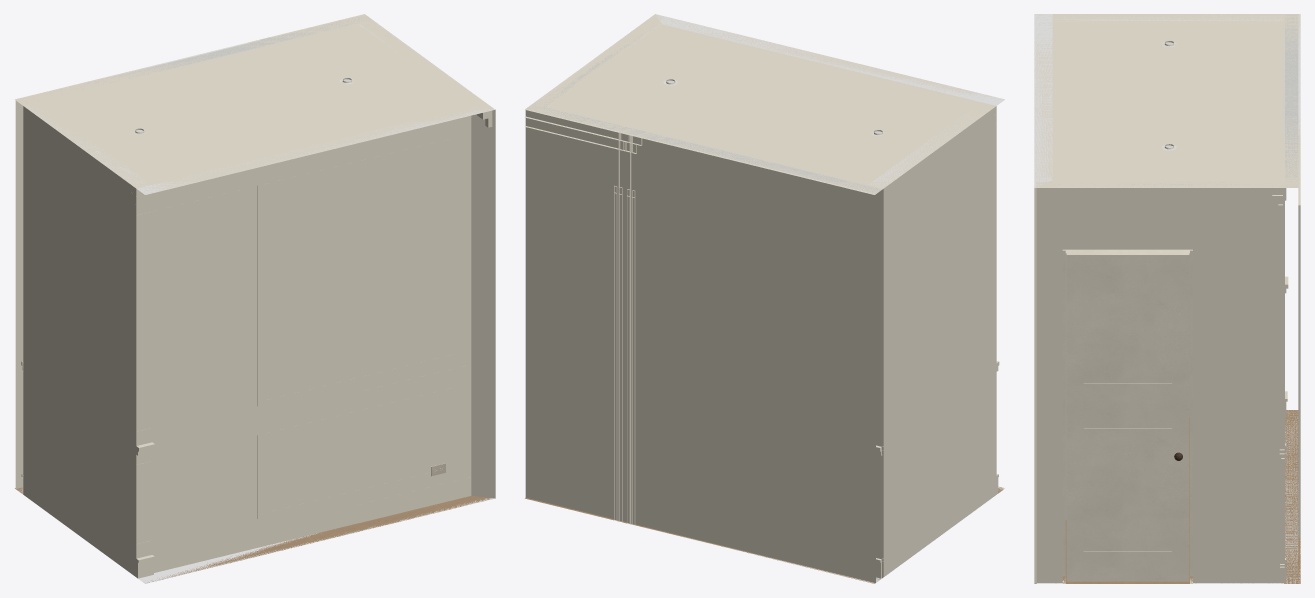
The model's file is upstairs-closet-east-3fef086dd252.glb.
3 views of the same model, side by side, from view 1: azimuth 30°, elevation 25°; view 2: azimuth 150°, elevation 25°; view 3: azimuth 270°, elevation 25° (orthographic).
Visible parts, largest first — view 1: upstairs-closet-east-6e269356ae8bfd70, upstairs-closet-east-af27112094daa34f, upstairs-closet-east-9d91b47435c6fb33, upstairs-closet-east-eb02897c2e79e2b1, upstairs-closet-east-1e72e6a7b41a2abd, upstairs-closet-east-23111371382874c8, upstairs-closet-east-eee6b1654fa02f80, upstairs-closet-east-2575515a05775d9e, upstairs-closet-east-414385708a06acff, upstairs-closet-east-3b3c25625ac8bb9a, upstairs-closet-east-1e3385c37a14aaf6, upstairs-closet-east-a5ac74805be43788; view 2: upstairs-closet-east-eb02897c2e79e2b1, upstairs-closet-east-af27112094daa34f, upstairs-closet-east-9d91b47435c6fb33, upstairs-closet-east-6e269356ae8bfd70, upstairs-closet-east-64efeecf845bccca, upstairs-closet-east-4f926054fd5f2d50, upstairs-closet-east-ed88f5d795cf56b6, upstairs-closet-east-dacde169422abe77, upstairs-closet-east-d84e51967c6a028c, upstairs-closet-east-23111371382874c8, upstairs-closet-east-3b3c25625ac8bb9a, upstairs-closet-east-e2e3a4ca5a8c504a; view 3: upstairs-closet-east-95684fa6df9df9bf, upstairs-closet-east-9d91b47435c6fb33, upstairs-closet-east-c33a54857fb1d4db, upstairs-closet-east-eb02897c2e79e2b1, upstairs-closet-east-6e269356ae8bfd70, upstairs-closet-east-2575515a05775d9e, upstairs-closet-east-664af2d0241557dd, upstairs-closet-east-3b3c25625ac8bb9a, upstairs-closet-east-af27112094daa34f, upstairs-closet-east-e2e3a4ca5a8c504a, upstairs-closet-east-4f926054fd5f2d50, upstairs-closet-east-23111371382874c8 (+1 smaller).
Part boxes in pixels (<box>): upstairs-closet-east-6e269356ae8bfd70: <box>136,107,495,583</box>; upstairs-closet-east-af27112094daa34f: <box>23,105,147,576</box>; upstairs-closet-east-9d91b47435c6fb33: <box>15,14,494,194</box>; upstairs-closet-east-eb02897c2e79e2b1: <box>15,15,371,493</box>; upstairs-closet-east-1e72e6a7b41a2abd: <box>257,137,456,406</box>; upstairs-closet-east-23111371382874c8: <box>132,115,471,205</box>; upstairs-closet-east-eee6b1654fa02f80: <box>257,387,456,518</box>; upstairs-closet-east-2575515a05775d9e: <box>15,487,491,582</box>; upstairs-closet-east-414385708a06acff: <box>148,477,471,555</box>; upstairs-closet-east-3b3c25625ac8bb9a: <box>362,20,492,127</box>; upstairs-closet-east-1e3385c37a14aaf6: <box>143,364,471,444</box>; upstairs-closet-east-a5ac74805be43788: <box>136,189,243,435</box>; upstairs-closet-east-eb02897c2e79e2b1: <box>525,104,883,583</box>; upstairs-closet-east-af27112094daa34f: <box>869,106,996,576</box>; upstairs-closet-east-9d91b47435c6fb33: <box>525,14,1004,194</box>; upstairs-closet-east-6e269356ae8bfd70: <box>655,14,1004,490</box>; upstairs-closet-east-64efeecf845bccca: <box>618,132,631,523</box>; upstairs-closet-east-4f926054fd5f2d50: <box>614,185,617,520</box>; upstairs-closet-east-ed88f5d795cf56b6: <box>619,187,622,522</box>; upstairs-closet-east-dacde169422abe77: <box>632,190,635,525</box>; upstairs-closet-east-d84e51967c6a028c: <box>627,189,629,523</box>; upstairs-closet-east-23111371382874c8: <box>657,27,995,115</box>; upstairs-closet-east-3b3c25625ac8bb9a: <box>535,15,664,105</box>; upstairs-closet-east-e2e3a4ca5a8c504a: <box>860,102,977,184</box>; upstairs-closet-east-95684fa6df9df9bf: <box>1036,180,1283,583</box>; upstairs-closet-east-9d91b47435c6fb33: <box>1034,14,1300,187</box>; upstairs-closet-east-c33a54857fb1d4db: <box>1066,253,1189,581</box>; upstairs-closet-east-eb02897c2e79e2b1: <box>1282,14,1300,583</box>; upstairs-closet-east-6e269356ae8bfd70: <box>1034,14,1052,583</box>; upstairs-closet-east-2575515a05775d9e: <box>1035,410,1300,583</box>; upstairs-closet-east-664af2d0241557dd: <box>1062,249,1192,583</box>; upstairs-closet-east-3b3c25625ac8bb9a: <box>1036,182,1284,186</box>; upstairs-closet-east-af27112094daa34f: <box>1053,14,1282,417</box>; upstairs-closet-east-e2e3a4ca5a8c504a: <box>1052,21,1282,26</box>; upstairs-closet-east-4f926054fd5f2d50: <box>1299,205,1300,539</box>; upstairs-closet-east-23111371382874c8: <box>1052,14,1063,165</box>.
Bounding box in the file's own units: 2.73 × 2.91 × 1.77.
16 materials, 3 textured.
